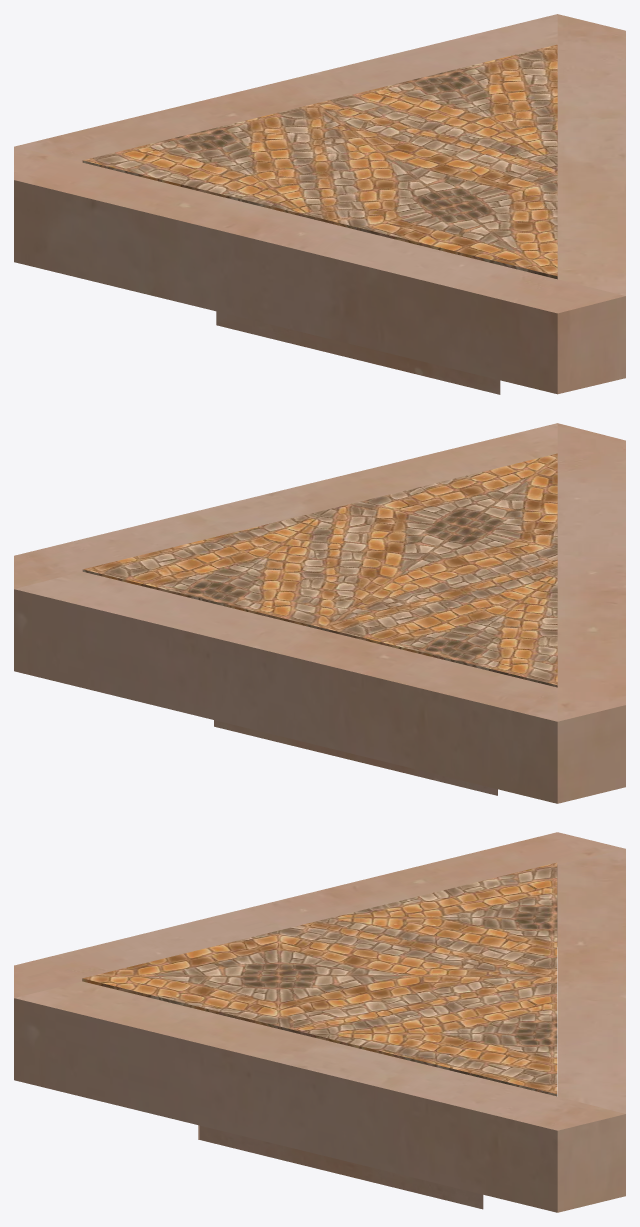
3 renders of one model, top to bottom at view 1: azimuth 30°, elevation 25°; view 2: azimuth 150°, elevation 25°; view 3: azimuth 270°, elevation 25°, orthographic.
Parts seen in each view (by area): view 1: SM_BB_T4_Floor_Triangle_Med_02_LOD0; view 2: SM_BB_T4_Floor_Triangle_Med_02_LOD0; view 3: SM_BB_T4_Floor_Triangle_Med_02_LOD0.
Part boxes in pixels (left/top/right/bottom): SM_BB_T4_Floor_Triangle_Med_02_LOD0: left=14, top=14, right=625, bottom=394; SM_BB_T4_Floor_Triangle_Med_02_LOD0: left=14, top=423, right=625, bottom=803; SM_BB_T4_Floor_Triangle_Med_02_LOD0: left=14, top=832, right=625, bottom=1212.
Size of the model in its own units: 1.93 by 0.4866 by 1.67.
2 materials, 2 textured.
